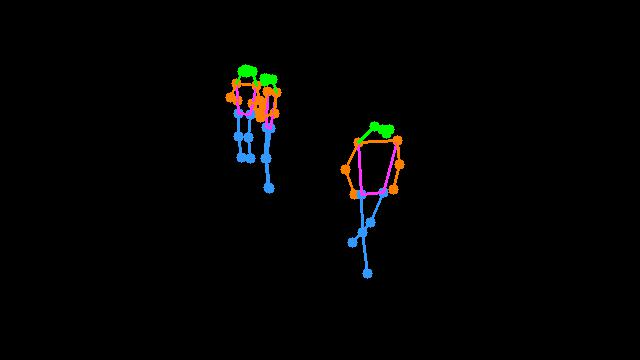normal: (325, 105, 423, 285), (210, 49, 292, 206)
